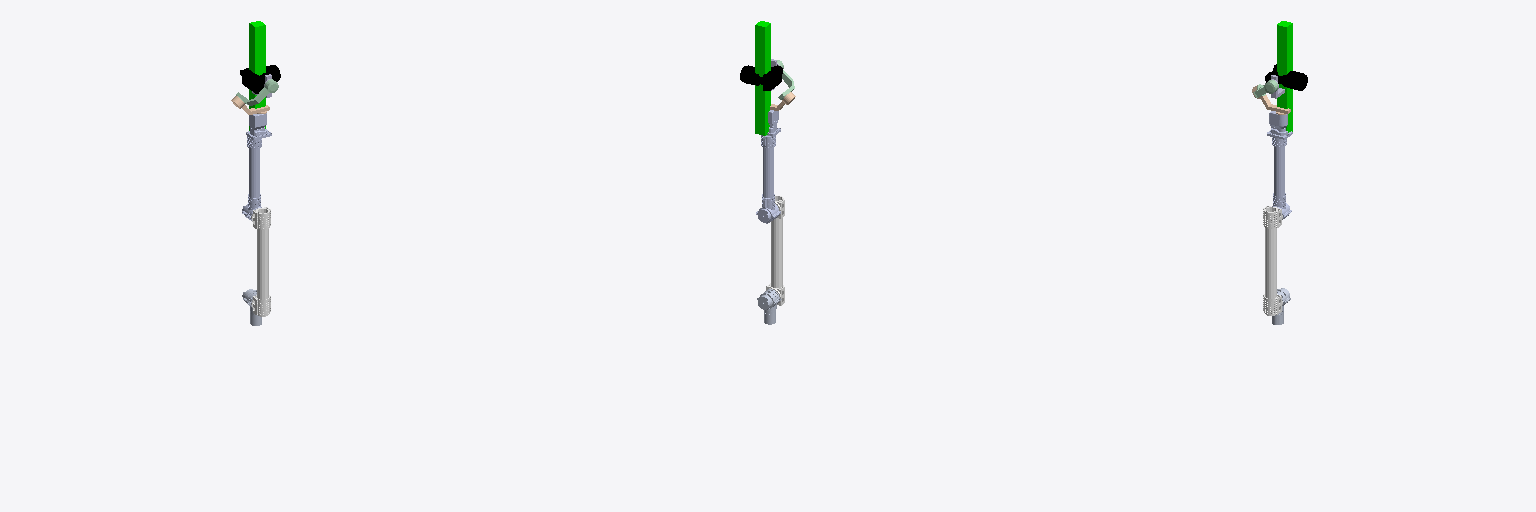
URDF robot description (recomoProto1-1190):
<?xml version="1.0" encoding="utf-8"?>
<!--
  RecomoProto1-190 URDF - Modified from recomo_pro_1900_urdf
  
  Date: 2026-01-27
  Status: Initial setup based on recomoProto1 characteristics
  
  MODIFICATIONS APPLIED:
  
  1. VIRTUAL JOINTS FOR CHASSIS (Added from recomoProto1):
     - base_root: Fixed world reference
     - base_vx_link: Prismatic X translation
     - base_vy_link: Prismatic Y translation  
     - base_wz_link: Continuous Z rotation
     
  2. INERTIAL PROPERTIES:
     - base_link: 21.0 kg (same as recomoProto1)
     - arm_link_1: 1.2 kg (increased from 0.254 kg - motor mass)
     - arm_link_2: 1.4 kg (increased from 0.370 kg - motor + link mass)
     - arm_link_3: 1.1 kg (increased from 0.729 kg - adjusted for motor)
     
  3. JOINT LIMITS (Aligned with recomoProto1):
     - arm_joint_1 (yaw): ±180° (±3.1416 rad), effort=30 N·m, velocity=0.5 rad/s
     - arm_joint_2 (pitch): ±90° (±1.5708 rad), effort=30 N·m, velocity=0.5 rad/s
     - arm_joint_3 (elbow): ±90° (±1.5708 rad), effort=30 N·m, velocity=0.5 rad/s
     - arm_joint_4 (gimbal yaw): ±180° (±3.1416 rad), effort=10 N·m, velocity=0.5 rad/s
     - arm_joint_5 (gimbal roll): -95° to +240° (-1.6581 to 4.1888 rad), effort=10 N·m
     - arm_joint_6 (gimbal pitch): -112° to +214° (-1.9548 to 3.7350 rad), effort=10 N·m
-->
<!-- This URDF was automatically created by SolidWorks to URDF Exporter! Originally created by Stephen Brawner (brawner@gmail.com) 
     Commit Version: 1.6.0-4-g7f85cfe  Build Version: 1.6.7995.38578
     For more information, please see http://wiki.ros.org/sw_urdf_exporter -->
<robot
  name="recomoProto1-1190">
  <!-- <link name="base_root" /> -->
  <!-- <link name="base_vx_link" />
  <link name="base_vy_link" />
  <link name="base_wz_link" /> -->

   <link name="base_root">
    <inertial>
      <origin xyz="0 0 0" rpy="0 0 0"/>
      <mass value="0.001"/>
      <inertia ixx="1e-08" ixy="0" ixz="0" iyy="1e-08" iyz="0" izz="1e-08"/>
    </inertial>
    <visual>
      <origin xyz="0 0 0" rpy="0 0 0"/>
      <geometry><box size="0.00 0.00 0.00"/></geometry>
      <material name="world_material">
        <color rgba="0.2 0.2 0.2 1"/>
      </material>
    </visual>
    <collision>
      <origin xyz="0 0 0" rpy="0 0 0"/>
      <geometry><box size="0.00 0.00 0.00"/></geometry>
    </collision>
  </link>

  <!-- chassis planar joints chain: 补全材质name属性 + 惯性/视觉/碰撞体 -->
  <link name="base_vx_link">
    <inertial>
      <origin xyz="0 0 0" rpy="0 0 0"/>
      <mass value="0.1"/>
      <inertia ixx="0.0001" ixy="0" ixz="0" iyy="0.0001" iyz="0" izz="0.0001"/>
    </inertial>
    <visual>
      <origin xyz="0 0 0" rpy="0 0 0"/>
      <geometry><box size="0.00 0.00 0.00"/></geometry>
      <material name="base_gray_material">
        <color rgba="0.5 0.5 0.5 1"/>
      </material>
    </visual>
    <collision>
      <origin xyz="0 0 0" rpy="0 0 0"/>
      <geometry><box size="0.00 0.00 0.00"/></geometry>
    </collision>
  </link>


  <link name="base_vy_link">
    <inertial>
      <origin xyz="0 0 0" rpy="0 0 0"/>
      <mass value="0.1"/>
      <inertia ixx="0.0001" ixy="0" ixz="0" iyy="0.0001" iyz="0" izz="0.0001"/>
    </inertial>
    <visual>
      <origin xyz="0 0 0" rpy="0 0 0"/>
      <geometry><box size="0.00 0.00 0.00"/></geometry>
      <material name="base_gray_material">
        <color rgba="0.5 0.5 0.5 1"/>
      </material>
    </visual>
    <collision>
      <origin xyz="0 0 0" rpy="0 0 0"/>
      <geometry><box size="0.00 0.00 0.00"/></geometry>
    </collision>
  </link>

  <link name="base_wz_link">
    <inertial>
      <origin xyz="0 0 0" rpy="0 0 0"/>
      <mass value="0.1"/>
      <inertia ixx="0.0001" ixy="0" ixz="0" iyy="0.0001" iyz="0" izz="0.0001"/>
    </inertial>
    <visual>
      <origin xyz="0 0 2.000" rpy="0 0 0"/>
      <geometry><box size="0.00 0.00 0.00"/></geometry>
      <material name="base_gray_material">
        <color rgba="0.5 0.5 0.5 1"/>
      </material>
    </visual>
    <collision>
      <origin xyz="0 0 2.000" rpy="0 0 0"/>
      <geometry><box size="0.00 0.00 0.00"/></geometry>
    </collision>
  </link>

  <joint name="base_joint_vx" type="prismatic">
    <origin xyz="0 0 0" rpy="0 0 0" />
    <parent link="base_root" />
    <child link="base_vx_link" />
    <axis xyz="1 0 0" />
    <limit lower="-100" upper="100" effort="200" velocity="2.000000000000001" />
  </joint>

  <joint name="base_joint_vy" type="prismatic">
    <origin xyz="0 0 0" rpy="0 0 0" />
    <parent link="base_vx_link" />
    <child link="base_vy_link" />
    <axis xyz="0 1 0" />
    <limit lower="-100" upper="100" effort="200" velocity="2.000000000000001" />
  </joint>

  <joint name="base_joint_wz" type="continuous">
    <origin xyz="0 0 0" rpy="0 0 0" />
    <parent link="base_vy_link" />
    <child link="base_wz_link" />
    <axis xyz="0 0 1" />
    <limit
      lower="-3.1416"
      upper="3.1416"
      effort="30.0"
      velocity="0.5" />
  </joint>

  <link
    name="base_link">
    <inertial>
      <origin
        xyz="0.0018565 -0.030946 0.4286"
        rpy="0 0 0" />
      <mass
        value="21.0000" />
      <inertia
        ixx="1.334375"
        ixy="0.0"
        ixz="0.0"
        iyy="1.400000"
        iyz="0.0"
        izz="0.494375" />
    </inertial>
    <visual>
      <origin
        xyz="0 0 0"
        rpy="0 0 0" />
      <geometry>
        <mesh
          filename="meshes/recomoProto1-190/base_link.STL" />
      </geometry>
      <material
        name="">
        <color
          rgba="1 0.6 0 1" />
      </material>
    </visual>
    <collision>
      <origin
        xyz="0 0 0"
        rpy="0 0 0" />
      <geometry>
        <mesh
          filename="meshes/recomoProto1-190/base_link.STL" />
      </geometry>
    </collision>
  </link>
  <joint name="base_link_fixed" type="fixed">
    <origin xyz="0 0 0" rpy="0 0 0" />
    <parent link="base_wz_link" />
    <child link="base_link" />
  </joint>

  <link
    name="arm_base_link">
    <inertial>
      <origin
        xyz="-0.00014044 0.00033905 -0.038979"
        rpy="0 0 0" />
      <mass
        value="0.095731" />
      <inertia
        ixx="3.5316E-05"
        ixy="1.4007E-17"
        ixz="-4.2483E-18"
        iyy="3.5316E-05"
        iyz="-1.3664E-18"
        izz="3.0657E-05" />
    </inertial>
    <visual>
      <origin
        xyz="0 0 0"
        rpy="0 0 0" />
      <geometry>
        <mesh
          filename="meshes/recomoProto1-190/arm_base_link.STL" />
      </geometry>
      <material
        name="">
        <color
          rgba="0.81176 0.84314 0.9098 1" />
      </material>
    </visual>
    <collision>
      <origin
        xyz="0 0 0"
        rpy="0 0 0" />
      <geometry>
        <mesh
          filename="meshes/recomoProto1-190/arm_base_link.STL" />
      </geometry>
    </collision>
  </link>
  <joint
    name="arm_base_joint"
    type="fixed">
    <origin
      xyz="0.00047949 0 0.8428"
      rpy="0 0 0" />
    <parent
      link="base_link" />
    <child
      link="arm_base_link" />
  </joint>
  <link
    name="arm_link_1">
    <inertial>
      <origin
        xyz="0.0 0.0 0.0220"
        rpy="0 0 0" />
      <mass
        value="1.2000" />
      <inertia
        ixx="0.001120"
        ixy="0.0"
        ixz="0.0"
        iyy="0.001120"
        iyz="0.0"
        izz="0.000960" />
    </inertial>
    <visual>
      <origin
        xyz="0 0 0"
        rpy="0 0 0" />
      <geometry>
        <mesh
          filename="meshes/recomoProto1-190/arm_link_1.STL" />
      </geometry>
      <material
        name="">
        <color
          rgba="0.81176 0.84314 0.9098 1" />
      </material>
    </visual>
    <collision>
      <origin
        xyz="0 0 0"
        rpy="0 0 0" />
      <geometry>
        <mesh
          filename="meshes/recomoProto1-190/arm_link_1.STL" />
      </geometry>
    </collision>
  </link>
  <joint
    name="joint6_arm_yaw"
    type="revolute">
    <origin
      xyz="0 0 0"
      rpy="0 0 0" />
    <parent
      link="arm_base_link" />
    <child
      link="arm_link_1" />
    <axis
      xyz="0 0 1" />
    <limit
      lower="-3.1416"
      upper="3.1416"
      effort="30.0"
      velocity="0.5" />
  </joint>
  <link
    name="arm_link_2">
    <inertial>
      <origin
        xyz="0.0 0.2000 0.0"
        rpy="0 0 0" />
      <mass
        value="1.4000" />
      <inertia
        ixx="0.001213"
        ixy="0.0"
        ixz="0.0"
        iyy="0.001213"
        iyz="0.0"
        izz="0.001040" />
    </inertial>
    <visual>
      <origin
        xyz="0 0 0"
        rpy="0 0 0" />
      <geometry>
        <mesh
          filename="meshes/recomoProto1-190/arm_link_2.STL" />
      </geometry>
      <material
        name="">
        <color
          rgba="1 1 1 1" />
      </material>
    </visual>
    <collision>
      <origin
        xyz="0 0 0"
        rpy="0 0 0" />
      <geometry>
        <mesh
          filename="meshes/recomoProto1-190/arm_link_2.STL" />
      </geometry>
    </collision>
  </link>
  <joint
    name="joint5_arm_pitch"
    type="revolute">
    <origin
      xyz="0 0 0.044"
      rpy="1.5708 0 0" />
    <parent
      link="arm_link_1" />
    <child
      link="arm_link_2" />
    <axis
      xyz="0 0 1" />
    <limit
      lower="-1.5708"
      upper="1.5708"
      effort="30.0"
      velocity="0.5" />
  </joint>
  <link
    name="arm_link_3">
    <inertial>
      <origin
        xyz="0.0 -0.2445 0.0"
        rpy="0 0 0" />
      <mass
        value="1.1000" />
      <inertia
        ixx="0.000933"
        ixy="0.0"
        ixz="0.0"
        iyy="0.000933"
        iyz="0.0"
        izz="0.000800" />
    </inertial>
    <visual>
      <origin
        xyz="0 0 0"
        rpy="0 0 0" />
      <geometry>
        <mesh
          filename="meshes/recomoProto1-190/arm_link_3.STL" />
      </geometry>
      <material
        name="arm_link_3_material">
        <color
          rgba="0.79216 0.81961 0.93333 1" />
      </material>
    </visual>
    <collision>
      <origin
        xyz="0 0 0"
        rpy="0 0 0" />
      <geometry>
        <mesh
          filename="meshes/recomoProto1-190/arm_link_3.STL" />
      </geometry>
    </collision>
  </link>
  <joint
    name="joint4_elbow_pitch"
    type="revolute">
    <origin
      xyz="0 0.4 0"
      rpy="3.1416 0 0" />
    <parent
      link="arm_link_2" />
    <child
      link="arm_link_3" />
    <axis
      xyz="0 0 1" />
    <limit
      lower="-2.3562"
      upper="2.3562"
      effort="30.0"
      velocity="0.5" />
  </joint>
  <link
    name="arm_link_4">
    <inertial>
      <origin
        xyz="-0.070164 4.3368E-17 0.042022"
        rpy="0 0 0" />
      <mass
        value="0.13278" />
      <inertia
        ixx="0.00012819"
        ixy="-2.7105E-20"
        ixz="0.0001679"
        iyy="0.00043346"
        iyz="2.7105E-20"
        izz="0.00033786" />
    </inertial>
    <visual>
      <origin
        xyz="0 0 0"
        rpy="0 0 0" />
      <geometry>
        <mesh
          filename="meshes/recomoProto1-190/arm_link_4.STL" />
      </geometry>
      <material
        name="">
        <color
          rgba="0.96078 0.83137 0.72549 1" />
      </material>
    </visual>
    <collision>
      <origin
        xyz="0 0 0"
        rpy="0 0 0" />
      <geometry>
        <mesh
          filename="meshes/recomoProto1-190/arm_link_4.STL" />
      </geometry>
    </collision>
  </link>
  <joint
    name="joint3_gimbal_yaw"
    type="revolute">
    <origin
      xyz="0.02166 -0.47088 -0.0017763"
      rpy="1.5708 0 0" />
    <parent
      link="arm_link_3" />
    <child
      link="arm_link_4" />
    <axis
      xyz="0 0 -1" />
    <limit
      lower="-3.1416"
      upper="3.1416"
      effort="10.0"
      velocity="0.5" />
  </joint>
  <link
    name="arm_link_5">
    <inertial>
      <origin
        xyz="-0.0017207 -0.063107 0.072648"
        rpy="0 0 0" />
      <mass
        value="0.14569" />
      <inertia
        ixx="0.00061559"
        ixy="-6.2991E-06"
        ixz="1.0646E-05"
        iyy="0.00042549"
        iyz="0.00023199"
        izz="0.00022502" />
    </inertial>
    <visual>
      <origin
        xyz="0 0 0"
        rpy="0 0 0" />
      <geometry>
        <mesh
          filename="meshes/recomoProto1-190/arm_link_5.STL" />
      </geometry>
      <material
        name="">
        <color
          rgba="0.70588 0.85882 0.7451 1" />
      </material>
    </visual>
    <collision>
      <origin
        xyz="0 0 0"
        rpy="0 0 0" />
      <geometry>
        <mesh
          filename="meshes/recomoProto1-190/arm_link_5.STL" />
      </geometry>
    </collision>
  </link>
  <joint
    name="joint2_gimbal_roll"
    type="revolute">
    <origin
      xyz="-0.099888 0 0.077538"
      rpy="0 0.94248 0" />
    <parent
      link="arm_link_4" />
    <child
      link="arm_link_5" />
    <axis
      xyz="0 0 1" />
    <limit
      lower="-1.6581"
      upper="4.1888"
      effort="10.0"
      velocity="0.5" />
  </joint>
  <link
    name="arm_link_6">
    <inertial>
      <origin
        xyz="-0.0050729 0.033014 0.045516"
        rpy="0 0 0" />
      <mass
        value="0.11479" />
      <inertia
        ixx="0.0002457"
        ixy="9.9849E-06"
        ixz="1.7169E-05"
        iyy="0.0001741"
        iyz="-7.7172E-05"
        izz="0.0001101" />
    </inertial>
    <visual>
      <origin
        xyz="0 0 0"
        rpy="0 0 0" />
      <geometry>
        <mesh
          filename="meshes/recomoProto1-190/arm_link_6.STL" />
      </geometry>
      <material
        name="">
        <color
          rgba="0.79216 0.78039 0.89412 1" />
      </material>
    </visual>
    <collision>
      <origin
        xyz="0 0 0"
        rpy="0 0 0" />
      <geometry>
        <mesh
          filename="meshes/recomoProto1-190/arm_link_6.STL" />
      </geometry>
    </collision>
  </link>
  <joint
    name="joint1_gimbal_pitch"
    type="revolute">
    <origin
      xyz="-0.0031465 -0.075 0.12575"
      rpy="-1.5708 -0.94248 0" />
    <parent
      link="arm_link_5" />
    <child
      link="arm_link_6" />
    <axis
      xyz="0 0 -1" />
    <limit
      lower="-1.9548"
      upper="3.7350"
      effort="10.0"
      velocity="0.5" />
  </joint>
  <link
    name="cam_link">
    <inertial>
      <origin
        xyz="-0.0092646 -4.9409E-05 0.0081469"
        rpy="0 0 0" />
      <mass
        value="2.99964" />
      <inertia
        ixx="0.0003447"
        ixy="-6.5753E-06"
        ixz="2.4463E-05"
        iyy="0.00056714"
        iyz="1.3804E-06"
        izz="0.00070106" />
    </inertial>
    <visual>
      <origin
        xyz="0 0 0"
        rpy="0 0 0" />
      <geometry>
        <mesh
          filename="meshes/recomoProto1-190/cam_link.STL" />
      </geometry>
      <material
        name="">
        <color
          rgba="0 0 0 1" />
      </material>
    </visual>
    <collision>
      <origin
        xyz="0 0 0"
        rpy="0 0 0" />
      <geometry>
        <mesh
          filename="meshes/recomoProto1-190/cam_link.STL" />
      </geometry>
    </collision>
  </link>
  <joint
    name="camera_optical_center"
    type="fixed">
    <origin
      xyz="-0.0019634 0.0065609 0.10147"
      rpy="0 -1.5708 3.1416" />
    <parent
      link="arm_link_6" />
    <child
      link="cam_link" />
  </joint>
  <link name="ee_tool">
    <inertial>
      <origin xyz="0 0 0" rpy="0 0 0" />
      <mass value="0.001" />
      <inertia ixx="2.3333E-07" ixy="0" ixz="0" iyy="2.3333E-07" iyz="0" izz="5.0E-08" />
    </inertial>
    <visual> <!-- 补全ee_tool的visual/collision（MoveIt要求） -->
      <origin xyz="0 0 0" rpy="0 0 0"/>
      <geometry><box size="0.02 0.02 0.02"/></geometry>
      <material name="">
        <color rgba="1 0 0 1"/>
      </material>
    </visual>
    <collision>
      <origin xyz="0 0 0" rpy="0 0 0"/>
      <geometry><box size="0.02 0.02 0.02"/></geometry>
    </collision>
  </link>
  <joint name="ee_tool_fixed" type="fixed">
    <origin xyz="0 0 0" rpy="0 0 0" />
    <parent link="cam_link" />
    <child link="ee_tool" />
  </joint>

  <link name="ee1_tool">
    <inertial>
      <origin xyz="0 0 0" rpy="0 0 0" />
      <mass value="0.001" />
      <inertia ixx="2.3333E-07" ixy="0" ixz="0" iyy="2.3333E-07" iyz="0" izz="5.0E-08" />
    </inertial>
    <visual> <!-- 补全ee_tool的visual/collision（MoveIt要求） -->
      <origin xyz="0 0 0" rpy="0 0 0"/>
      <geometry><box size="0.5 0.05 0.05"/></geometry>
      <material name="">
        <color rgba="0 1 0 1"/>
      </material>
    </visual>
  </link>
  
  <!-- removed collision element above so ee1_tool is not considered for collision checking -->
  <!-- Replace fixed mount with a 3-DOF rotational mount (Z-Y-X) so ee1_tool can assume any orientation -->
  <link name="ee1_rotz_link">
    <inertial>
      <origin xyz="0 0 0" rpy="0 0 0"/>
      <mass value="0.001"/>
      <inertia ixx="1e-06" ixy="0" ixz="0" iyy="1e-06" iyz="0" izz="1e-06"/>
    </inertial>
    <visual>
      <origin xyz="0 0 0" rpy="0 0 0"/>
      <geometry><box size="0.01 0.01 0.01"/></geometry>
      <material name="ee1_gray"><color rgba="0.5 0.5 0.5 1"/></material>
    </visual>
  </link>

  <link name="ee1_roty_link">
    <inertial>
      <origin xyz="0 0 0" rpy="0 0 0"/>
      <mass value="0.001"/>
      <inertia ixx="1e-06" ixy="0" ixz="0" iyy="1e-06" iyz="0" izz="1e-06"/>
    </inertial>
    <visual>
      <origin xyz="0 0 0" rpy="0 0 0"/>
      <geometry><box size="0.01 0.01 0.01"/></geometry>
      <material name="ee1_gray"><color rgba="0.5 0.5 0.5 1"/></material>
    </visual>
  </link>

  <link name="ee1_rotx_link">
    <inertial>
      <origin xyz="0 0 0" rpy="0 0 0"/>
      <mass value="0.001"/>
      <inertia ixx="1e-06" ixy="0" ixz="0" iyy="1e-06" iyz="0" izz="1e-06"/>
    </inertial>
    <visual>
      <origin xyz="0 0 0" rpy="0 0 0"/>
      <geometry><box size="0.01 0.01 0.01"/></geometry>
      <material name="ee1_gray"><color rgba="0.5 0.5 0.5 1"/></material>
    </visual>
  </link>

  <joint name="ee1_rot_z" type="revolute">
    <!-- <origin xyz="0.019693 -0.618316 0.024693" rpy="3.14159 -1.5708 0" /> -->
    <origin xyz="0.019693 -0.618316 0.024693" rpy="3.14159 0 1.5708" />
    <parent link="arm_link_3" />
    <child link="ee1_rotz_link" />
    <axis xyz="0 0 1" />
    <limit lower="-3.1416" upper="3.1416" effort="30.0" velocity="0.5" />
  </joint>
  <joint name="ee1_rot_y" type="revolute">
    <origin xyz="0 0 0" rpy="0 0 0" />
    <parent link="ee1_rotz_link" />
    <child link="ee1_roty_link" />
    <axis xyz="0 1 0" />
    <limit lower="-3.1416" upper="3.1416" effort="30.0" velocity="0.5" />
  </joint>
  <joint name="ee1_rot_x" type="revolute">
    <origin xyz="0 0 0" rpy="0 0 0" />
    <parent link="ee1_roty_link" />
    <child link="ee1_rotx_link" />
    <axis xyz="1 0 0" />
    <limit lower="-3.1416" upper="3.1416" effort="30.0" velocity="0.5" />
  </joint>
  <joint name="ee1_tool_mount_fixed" type="fixed">
    <origin xyz="0 0 0" rpy="0 0 0" />
    <parent link="ee1_rotx_link" />
    <child link="ee1_tool" />
  </joint>
</robot>

--- What the picture shows (computed from the rendered views, not written in the file) ---
Views: 3 orthographic renders of the robot side by side, from view 1: azimuth 30°, elevation 25°; view 2: azimuth 150°, elevation 25°; view 3: azimuth 330°, elevation 25°.
Model recomoProto1-1190 with 18 links and 17 joints (9 revolute, 1 continuous, 2 prismatic, 5 fixed), rooted at base_root, posed all joints at 0.
Visible links, largest first — view 1: arm_link_2, arm_link_3, ee1_tool, cam_link; view 2: ee1_tool, arm_link_3, arm_link_2, cam_link; view 3: arm_link_2, arm_link_3, ee1_tool, cam_link.
Boxes of the visible links, x1,y1,x2,y2 form: arm_link_2: (251, 207, 270, 316); arm_link_3: (242, 113, 271, 220); ee1_tool: (249, 21, 265, 130); cam_link: (240, 65, 280, 93); ee1_tool: (755, 21, 770, 135); arm_link_3: (756, 110, 780, 223); arm_link_2: (766, 196, 784, 305); cam_link: (740, 65, 782, 90); arm_link_2: (1263, 206, 1282, 315); arm_link_3: (1267, 111, 1292, 219); ee1_tool: (1277, 21, 1292, 132); cam_link: (1265, 64, 1307, 90).
Bounding box of the posed robot: 0.228 × 0.1772 × 2.16 m (x, y, z).
Meshes: 9 distinct files referenced, 8 mesh visuals loaded (8 binary STL); not drawn: 1 (reference not matched to a file when rendering).
